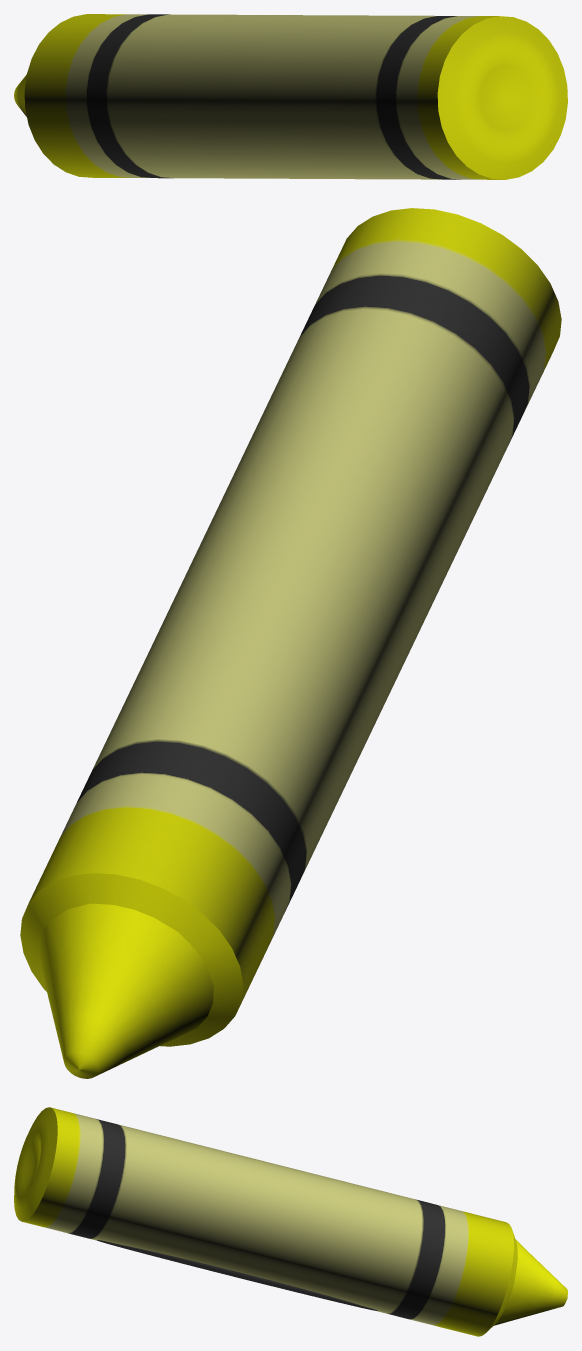
Rendered from yellow.obj.
The picture shows the model from 3 angles, top to bottom: view 1: azimuth 30°, elevation 25°; view 2: azimuth 150°, elevation 25°; view 3: azimuth 270°, elevation 25°; orthographic projection. The views are drawn at different scales.
Visible parts, largest first — view 1: Cylinder001; view 2: Cylinder001; view 3: Cylinder001.
Part boxes in pixels (x1,y1,x2,y2): Cylinder001: [14, 14, 567, 179]; Cylinder001: [20, 208, 561, 1078]; Cylinder001: [14, 1107, 567, 1336].
Size of the model in its own units: 20.83 by 29.27 by 58.93.
1 material, 1 textured.
